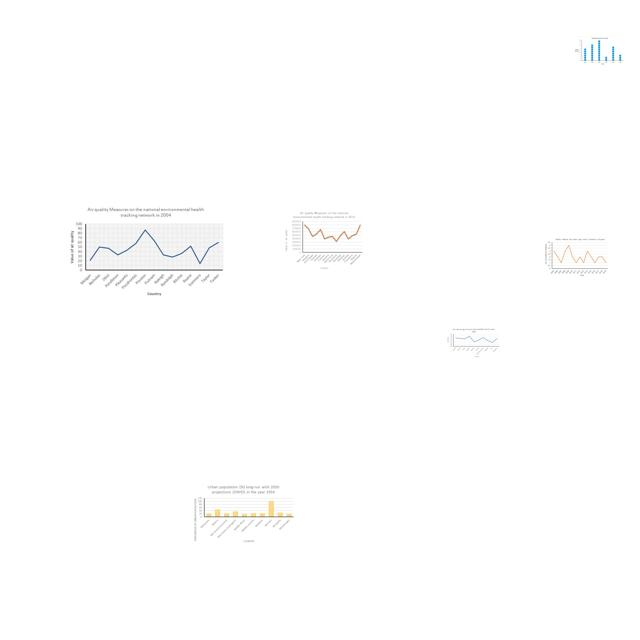Graph: (67, 205, 227, 299), (192, 484, 295, 544), (282, 210, 366, 271), (544, 237, 609, 277), (447, 327, 500, 358), (573, 36, 625, 66)
